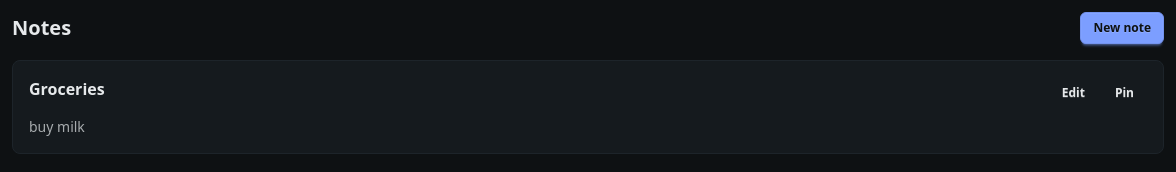
it: NotesPage › surfaces a failed pin toggle as an error
Click the button "Pin".
click(1124, 93)  # box [1102, 77, 1147, 109]
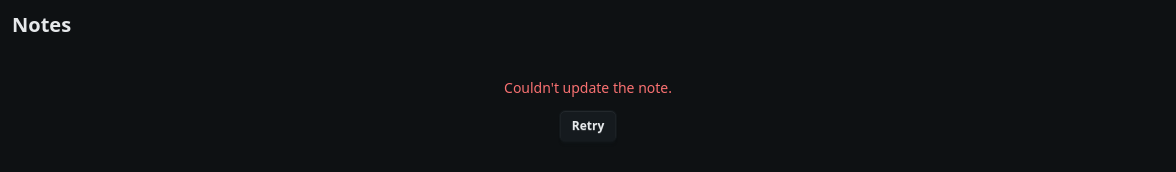
Now the message "Couldn't update the note. Retry" is shown, box [504, 78, 672, 142]
Now the text "Couldn't update the note." is shown, box [504, 78, 672, 98]
